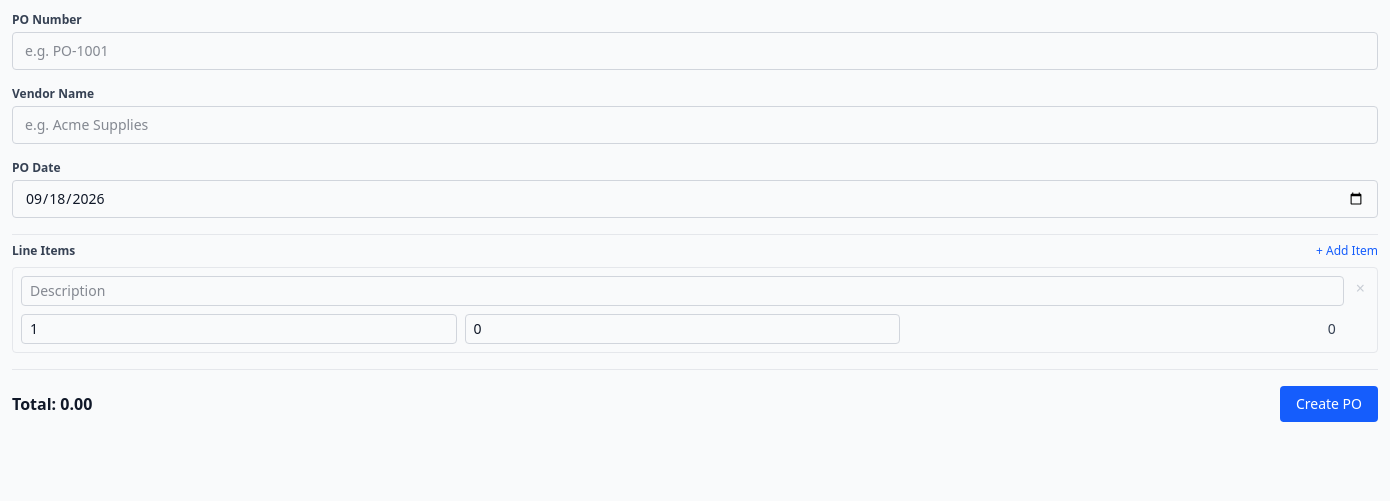
Test case: POCreateForm Component › validates empty description on submit
Type "PO-123" into the field with placeholder "e.g. PO-1001".
click(695, 51); type("PO-123")  # box [12,32,1378,70]
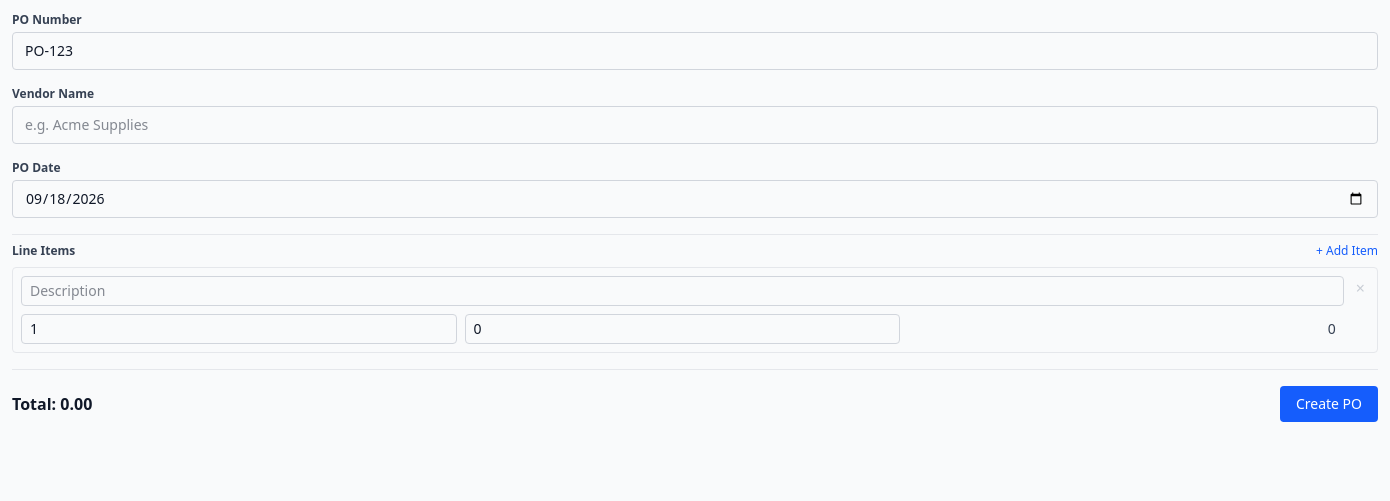
Type "Acme" into the field with placeholder "e.g. Acme Supplies".
click(695, 125); type("Acme")  # box [12,106,1378,144]
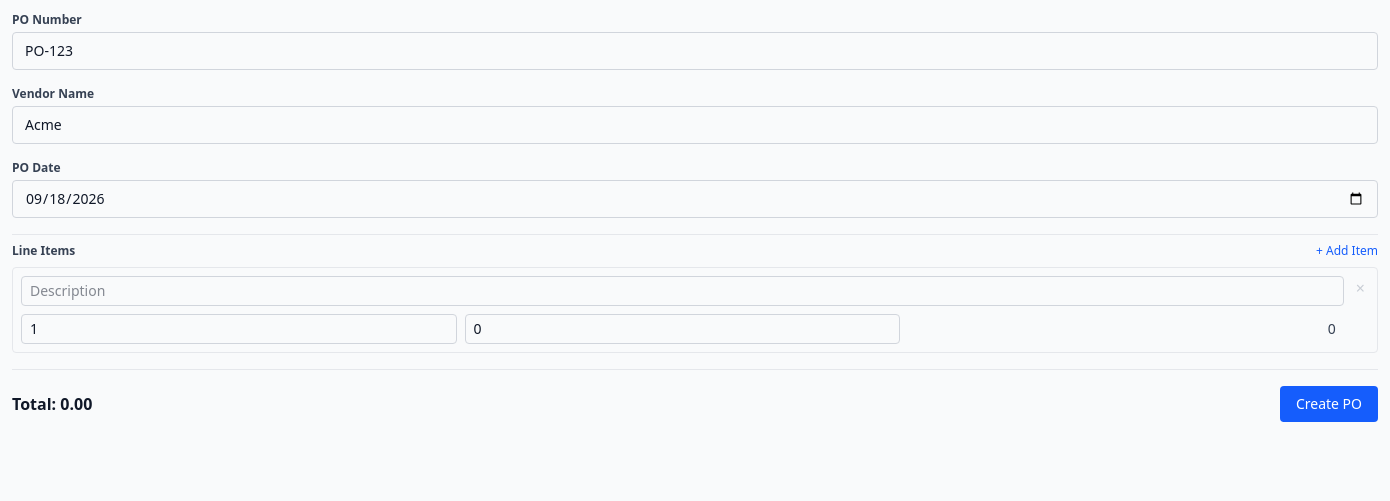
// Default description is empty, try submitting
Submit the form "Create PO"
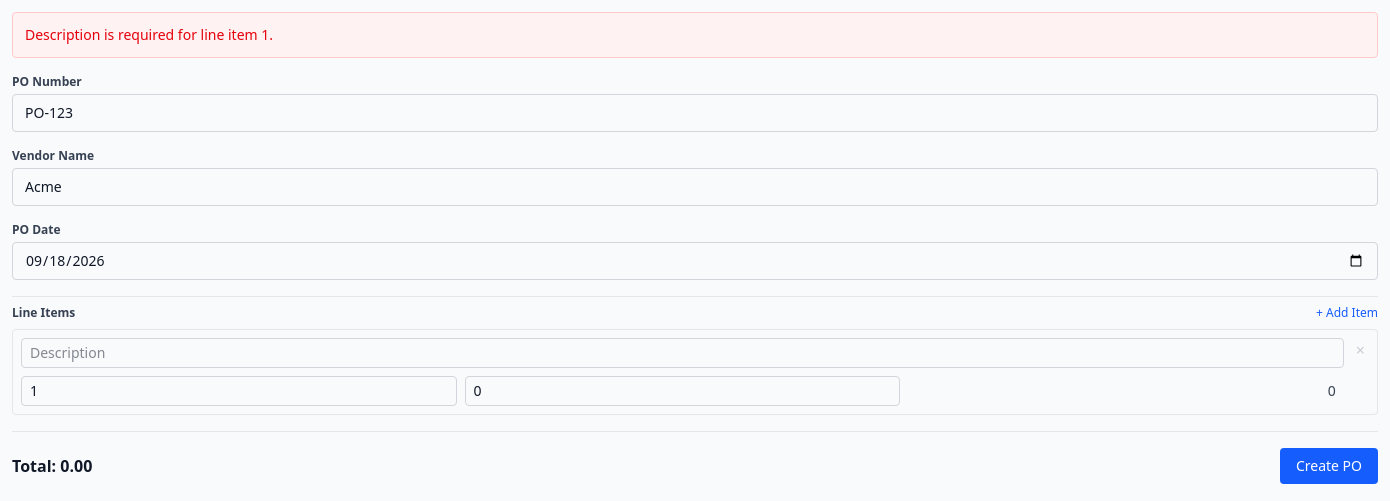
Now the text "Description is required for line item 1." is shown, box [12,12,1378,58]
